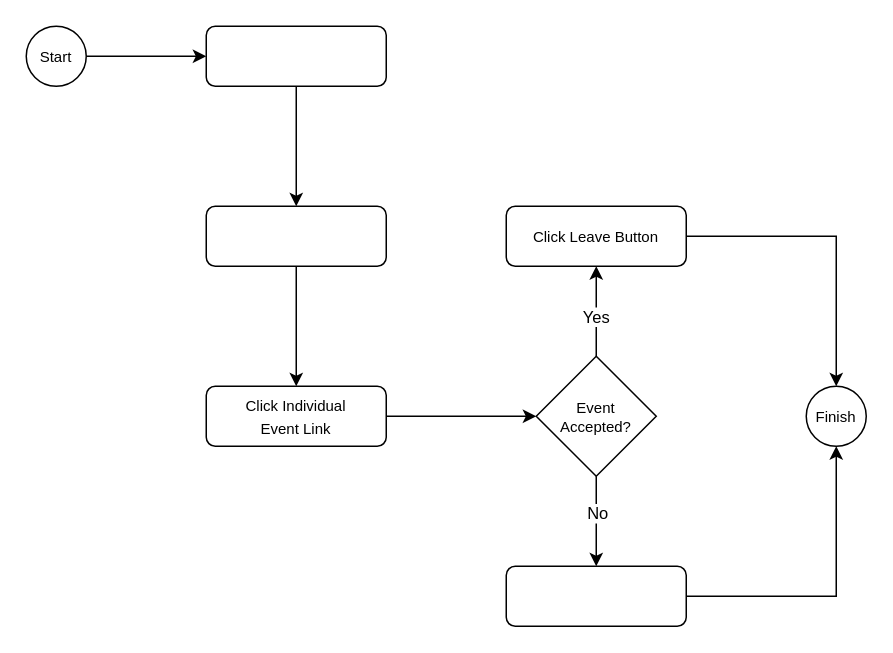
Image size: 893x653. Some labels were removed from this diagram. Each missing label, with the centre of its shape:
Click Events Link: the point at 295,235
Reject Request: the point at 595,595
Select Nav Menu: the point at 295,55
